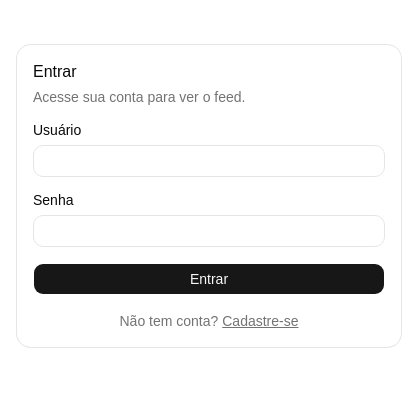
Test: LoginPage › shows validation errors when submitted empty
This screenshot has width=419, height=393.
Click the button "Entrar": (209, 279) x1=33 y1=263 x2=385 y2=295
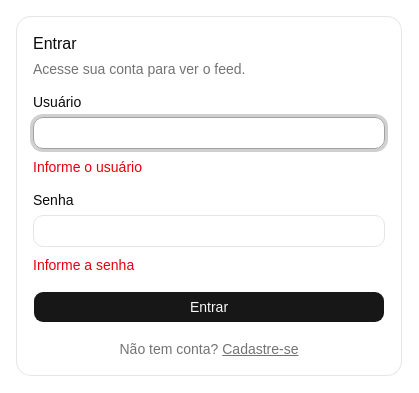
Expected: the text "Informe o usuário" is shown, x1=33 y1=159 x2=142 y2=175
Expected: the text "Informe a senha" is shown, x1=33 y1=257 x2=134 y2=273
